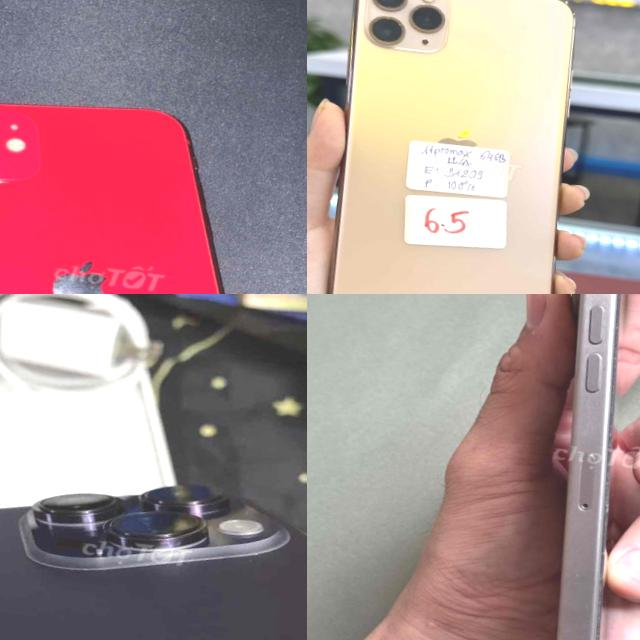gen_11: (307, 0, 603, 294), (0, 84, 305, 294)
gen_14: (0, 430, 307, 640)
gen_15: (478, 294, 640, 640)
